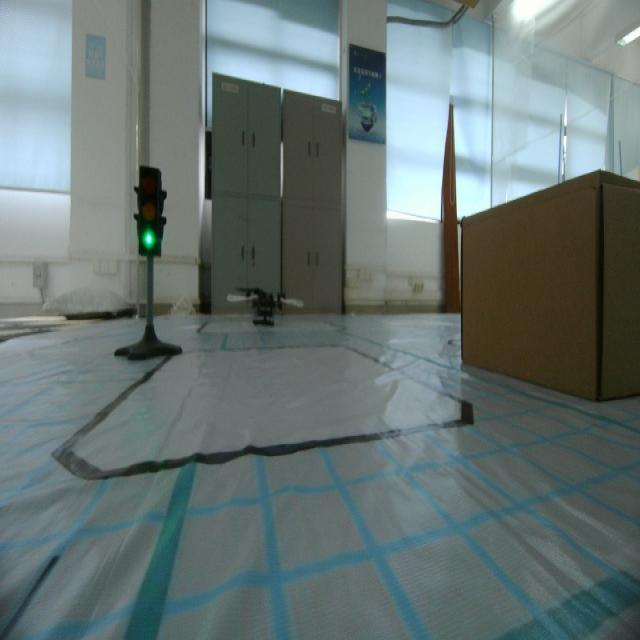green: (134, 153, 166, 261)
